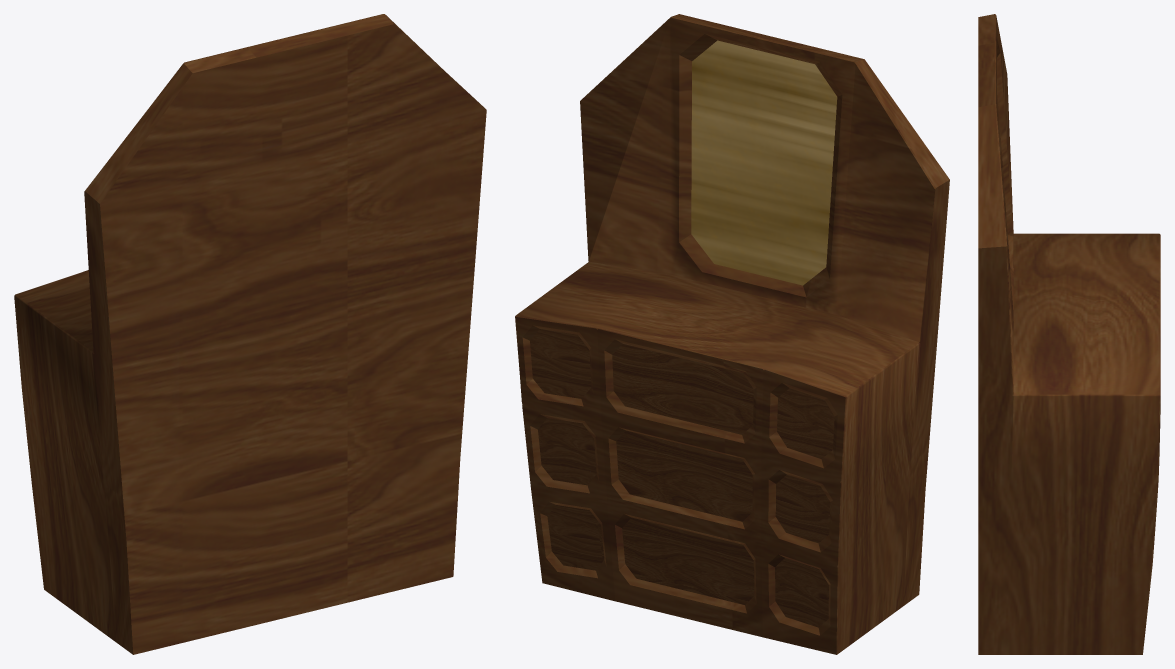
The model's file is Bedroom_Dresser.fbx.
The picture shows the model from 3 angles, left to right: view 1: azimuth 30°, elevation 25°; view 2: azimuth 150°, elevation 25°; view 3: azimuth 270°, elevation 25°; orthographic projection. The views are drawn at different scales.
Visible parts, largest first — view 1: DresserUVd:pCube12; view 2: DresserUVd:pCube12; view 3: DresserUVd:pCube12.
Part boxes in pixels (x1,y1,x2,y2): DresserUVd:pCube12: [14, 14, 486, 654]; DresserUVd:pCube12: [515, 14, 949, 654]; DresserUVd:pCube12: [978, 14, 1160, 654].
Size of the model in its own units: 174 by 246 by 77.5.
